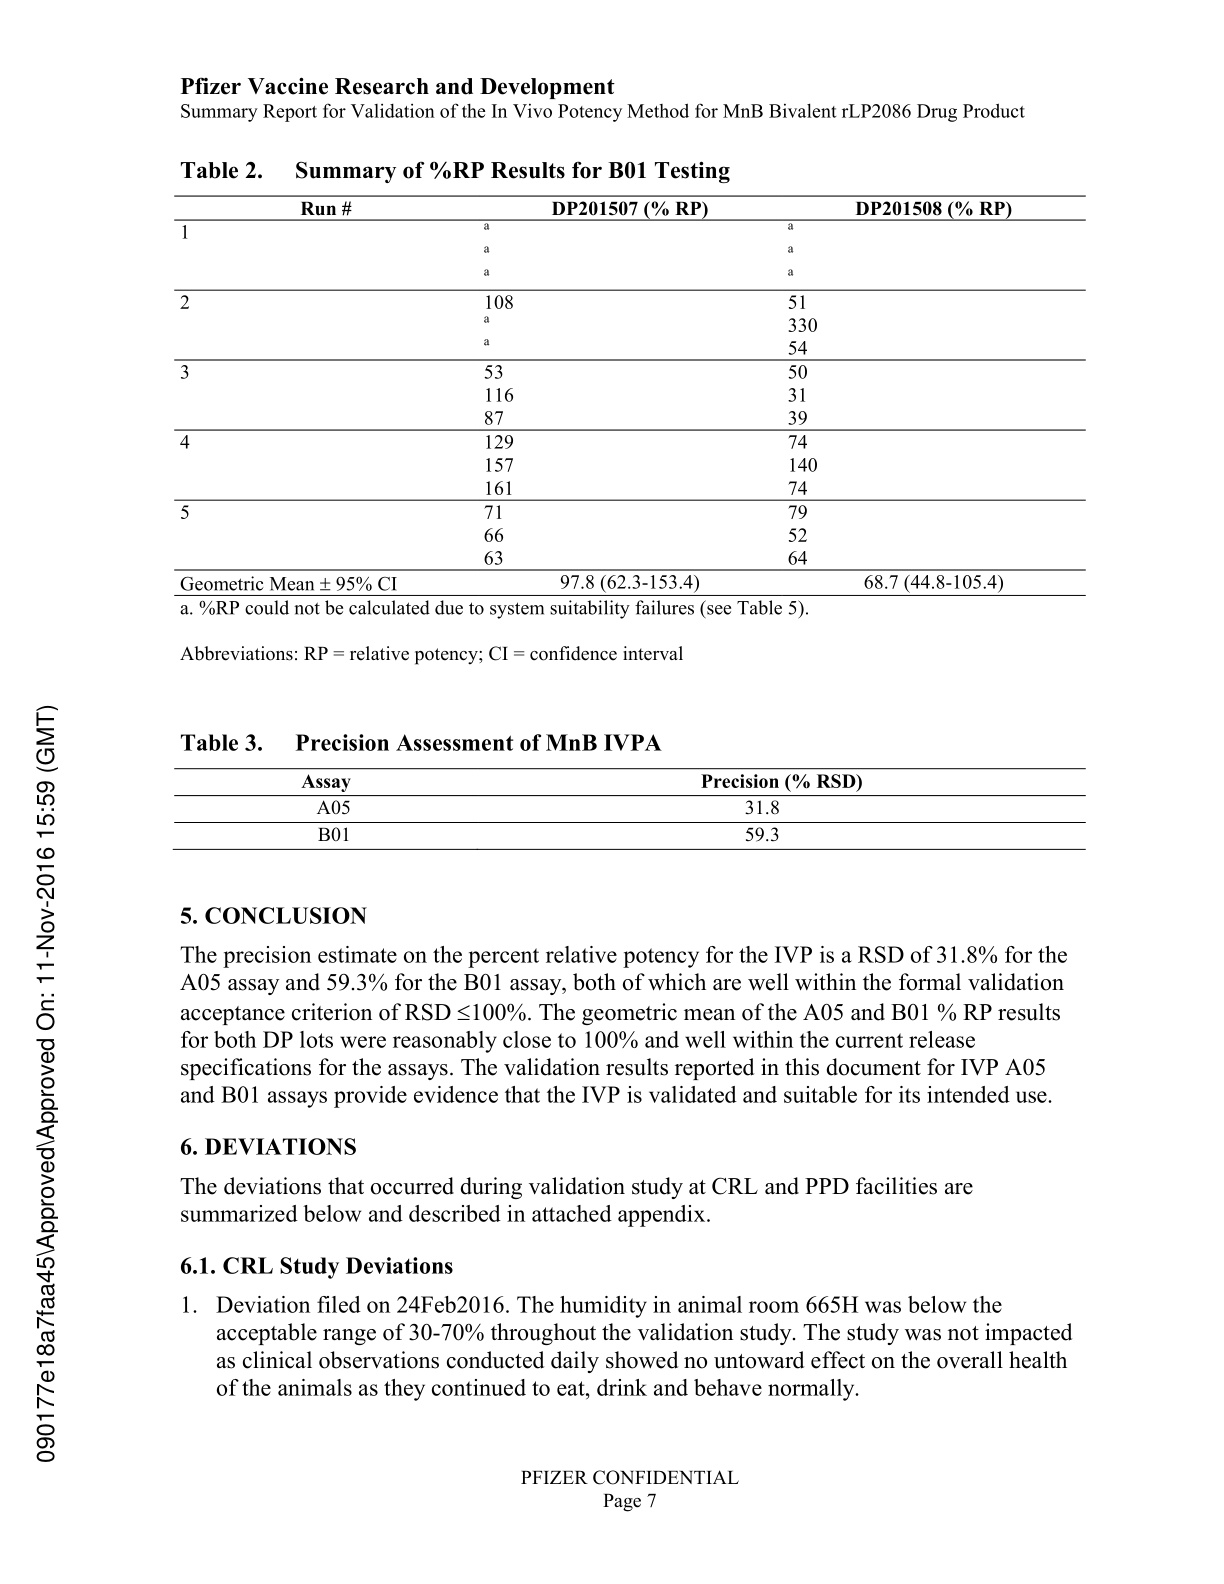partial_lined: (174, 195, 1089, 597), (172, 768, 1086, 851)
